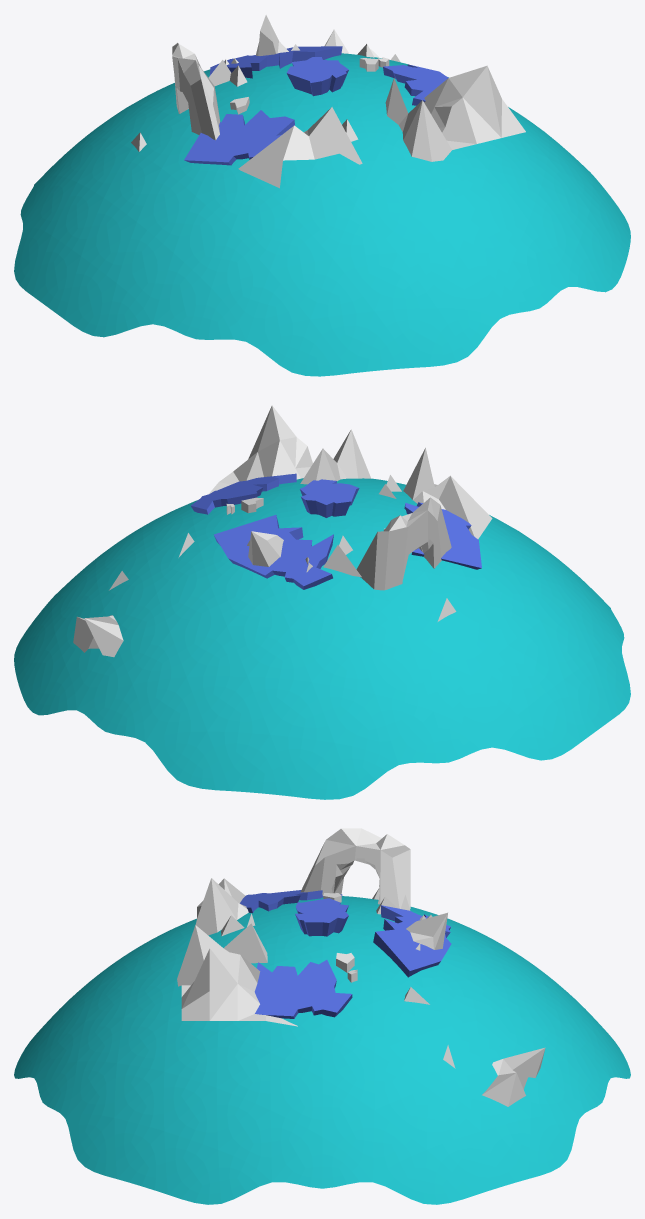
File: isebaseAAA.fbx
3 renders of one model, top to bottom at view 1: azimuth 30°, elevation 25°; view 2: azimuth 150°, elevation 25°; view 3: azimuth 270°, elevation 25°, orthographic.
Parts seen in each view (by area): view 1: Icosphere, SurfPatch, SurfPatch.001, Cylinder.003, Cylinder.004, Cylinder, Cylinder.005, Cylinder.002, Cone.006; view 2: Icosphere, SurfPatch, Cylinder.004, Cylinder.005, SurfPatch.001, Cylinder.003, Cylinder, Cylinder.002, SurfPatch.002, Cone.006, Cone.002; view 3: Icosphere, SurfPatch, Cylinder.004, Cylinder.002, Cylinder.005, SurfPatch.002, SurfPatch.001, Cylinder, Cylinder.003, Cone.006.
Boxes of the visible parts, bbox=[...] form: Icosphere: bbox=[14, 53, 630, 376]; SurfPatch: bbox=[385, 65, 525, 161]; SurfPatch.001: bbox=[238, 107, 362, 188]; Cylinder.003: bbox=[184, 110, 294, 165]; Cylinder.004: bbox=[172, 43, 220, 140]; Cylinder: bbox=[286, 57, 348, 96]; Cylinder.005: bbox=[209, 46, 342, 78]; Cylinder.002: bbox=[383, 64, 448, 105]; Cone.006: bbox=[255, 15, 288, 55]; Icosphere: bbox=[14, 478, 630, 799]; SurfPatch: bbox=[209, 405, 371, 493]; Cylinder.004: bbox=[356, 497, 451, 590]; Cylinder.005: bbox=[214, 515, 333, 589]; SurfPatch.001: bbox=[403, 448, 492, 538]; Cylinder.003: bbox=[404, 502, 481, 569]; Cylinder: bbox=[300, 479, 359, 517]; Cylinder.002: bbox=[191, 473, 296, 514]; SurfPatch.002: bbox=[73, 615, 123, 657]; Cone.006: bbox=[248, 531, 283, 566]; Cone.002: bbox=[323, 545, 361, 577]; Icosphere: bbox=[14, 896, 630, 1204]; SurfPatch: bbox=[177, 923, 297, 1026]; Cylinder.004: bbox=[300, 828, 410, 908]; Cylinder.002: bbox=[254, 960, 352, 1018]; Cylinder.005: bbox=[373, 905, 451, 977]; SurfPatch.002: bbox=[482, 1047, 545, 1106]; SurfPatch.001: bbox=[195, 878, 248, 935]; Cylinder: bbox=[295, 898, 348, 936]; Cylinder.003: bbox=[240, 890, 342, 913]; Cone.006: bbox=[406, 912, 447, 949].
Size of the model in its own units: 2143 by 791 by 2199.
